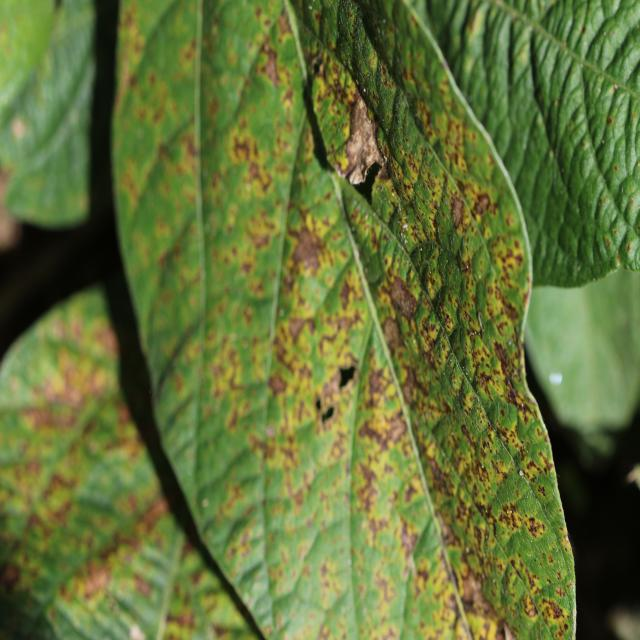Bacterial_Blight: (129, 40, 188, 147), (18, 395, 80, 435), (311, 362, 350, 425), (516, 418, 553, 470), (357, 409, 400, 449), (290, 224, 323, 275), (227, 125, 268, 164), (259, 36, 285, 86), (79, 560, 112, 599), (388, 275, 415, 318), (366, 363, 395, 401), (497, 498, 529, 532), (339, 273, 366, 312), (140, 494, 168, 531), (492, 339, 516, 381), (449, 325, 470, 368), (399, 361, 421, 402), (427, 454, 450, 492), (287, 313, 314, 345), (461, 568, 485, 603), (470, 244, 490, 284), (356, 458, 379, 491), (494, 401, 518, 432), (398, 518, 418, 555), (458, 378, 476, 416), (0, 562, 21, 593), (449, 192, 466, 228), (445, 267, 463, 301), (465, 6, 484, 36), (439, 516, 457, 547), (476, 438, 494, 468), (409, 244, 426, 275), (268, 371, 288, 397), (432, 334, 446, 368), (521, 593, 539, 619), (251, 228, 272, 250), (474, 191, 492, 215), (11, 117, 27, 140), (547, 599, 564, 619), (504, 299, 519, 321), (376, 127, 387, 157), (476, 309, 485, 331), (264, 423, 276, 439), (312, 58, 322, 76), (627, 196, 636, 211), (462, 260, 471, 273), (555, 585, 564, 596), (390, 185, 397, 199), (615, 254, 622, 268), (401, 218, 408, 232), (626, 242, 633, 254), (201, 498, 209, 508), (315, 399, 322, 410), (606, 116, 613, 126), (518, 468, 525, 477), (412, 337, 417, 347), (614, 164, 619, 172), (614, 84, 619, 92), (362, 87, 367, 95)
Soybean: (113, 0, 575, 640)
